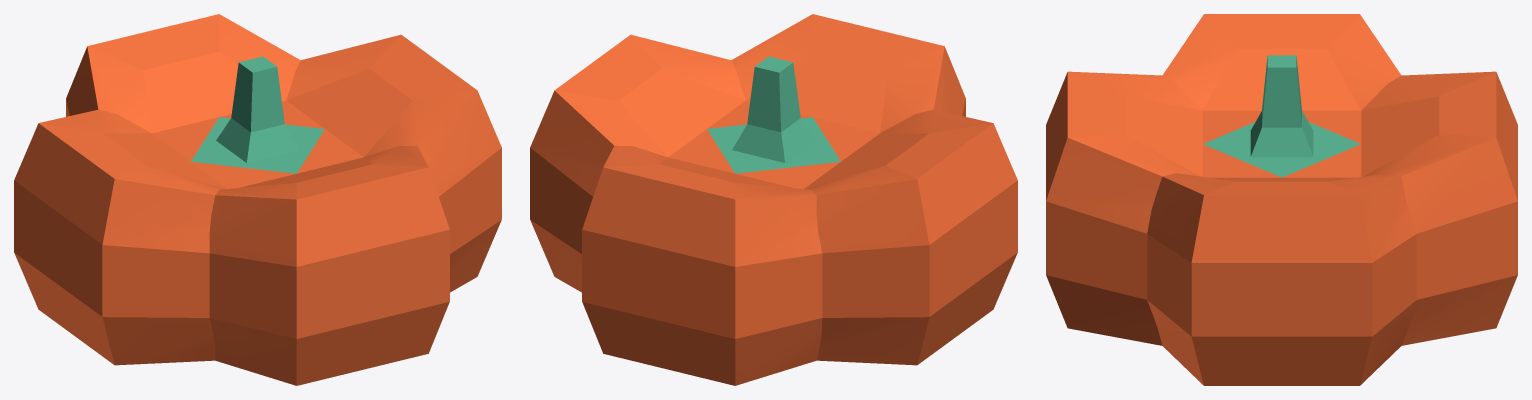
The model's file is pumpkin.fbx.
The picture shows the model from 3 angles, left to right: view 1: azimuth 30°, elevation 25°; view 2: azimuth 150°, elevation 25°; view 3: azimuth 270°, elevation 25°; orthographic projection. The views are drawn at different scales.
Visible parts, largest first — view 1: pumpkin; view 2: pumpkin; view 3: pumpkin.
Boxes of the visible parts, bbox=[...] form: pumpkin: bbox=[14, 14, 501, 385]; pumpkin: bbox=[530, 14, 1017, 385]; pumpkin: bbox=[1046, 14, 1517, 385].
Size of the model in its own units: 4.19 by 2.29 by 4.19.
